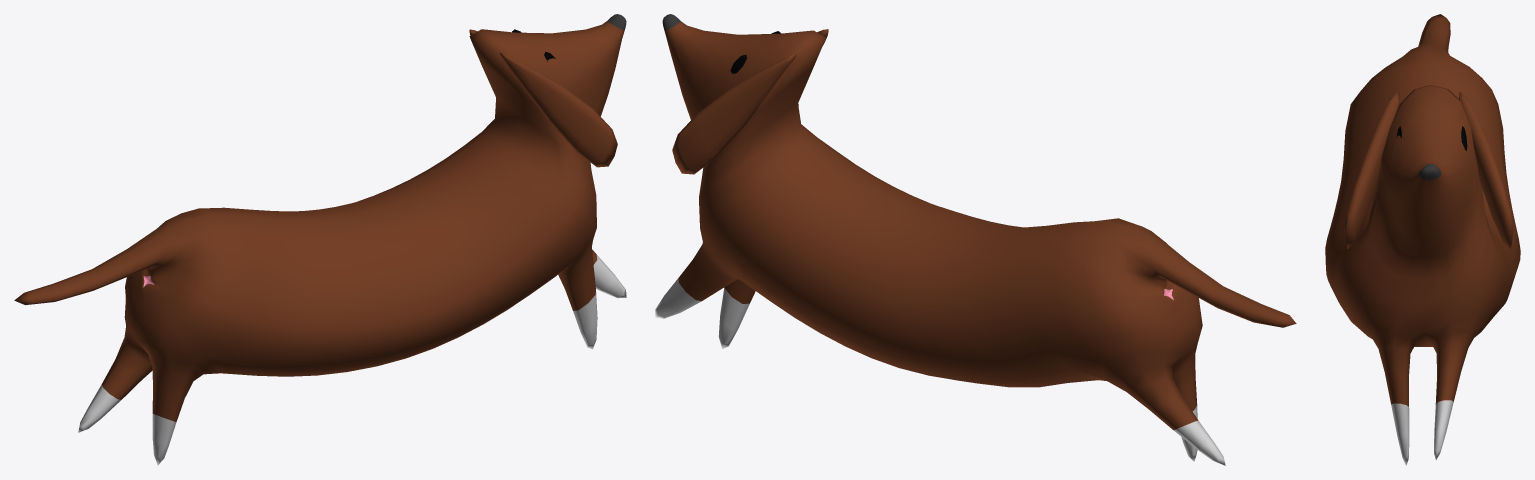
File: ween_medium_happy.fbx
3 views of the same model, side by side, from view 1: azimuth 30°, elevation 25°; view 2: azimuth 150°, elevation 25°; view 3: azimuth 270°, elevation 25° (orthographic). The views are drawn at different scales.
Visible parts, largest first — view 1: ween_medium_happy; view 2: ween_medium_happy; view 3: ween_medium_happy.
Part boxes in pixels (x1,y1,x2,y2): ween_medium_happy: [14, 14, 626, 465]; ween_medium_happy: [655, 14, 1296, 465]; ween_medium_happy: [1325, 14, 1520, 465].
Bounding box in the file's own units: 90.4 × 329 × 172.
